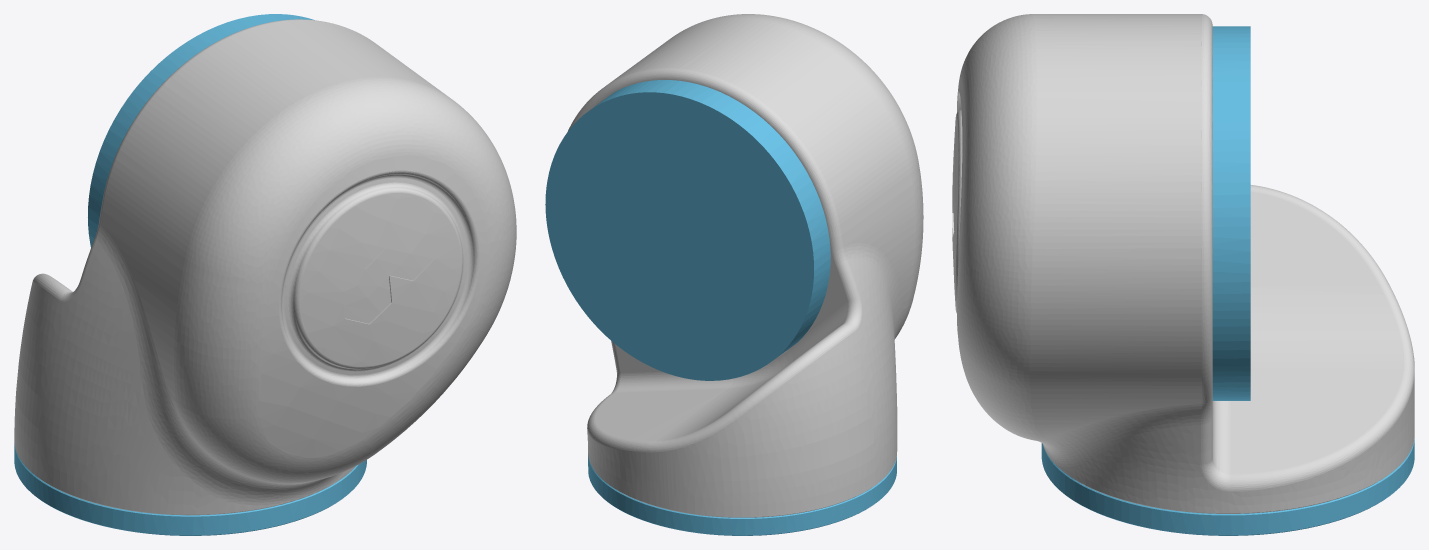
The picture shows the model from 3 angles, left to right: view 1: azimuth 30°, elevation 25°; view 2: azimuth 150°, elevation 25°; view 3: azimuth 270°, elevation 25°; orthographic projection. The views are drawn at different scales.
Visible parts, largest first — view 1: Untitled_014; view 2: Untitled_014; view 3: Untitled_014.
Boxes of the visible parts, x1,y1,x2,y2 form: Untitled_014: [14, 14, 516, 535]; Untitled_014: [545, 14, 923, 535]; Untitled_014: [952, 14, 1414, 535].
Bounding box in the file's own units: 0.1235 × 0.124 × 0.135.
